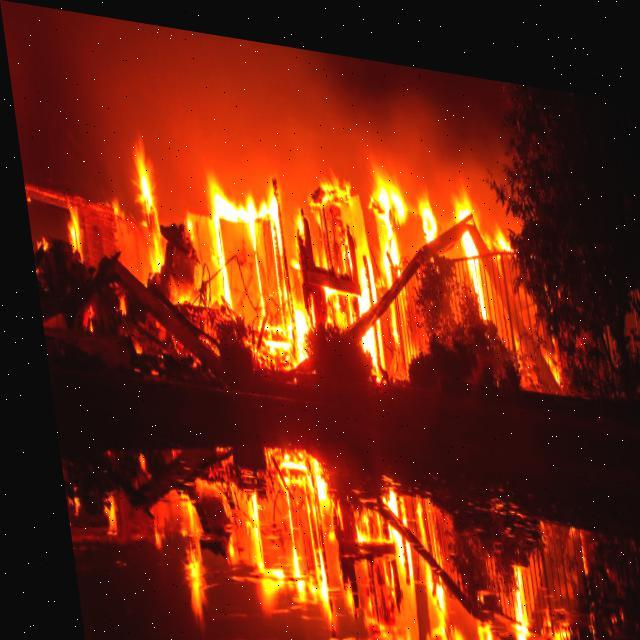Fire: (122, 128, 553, 400)
